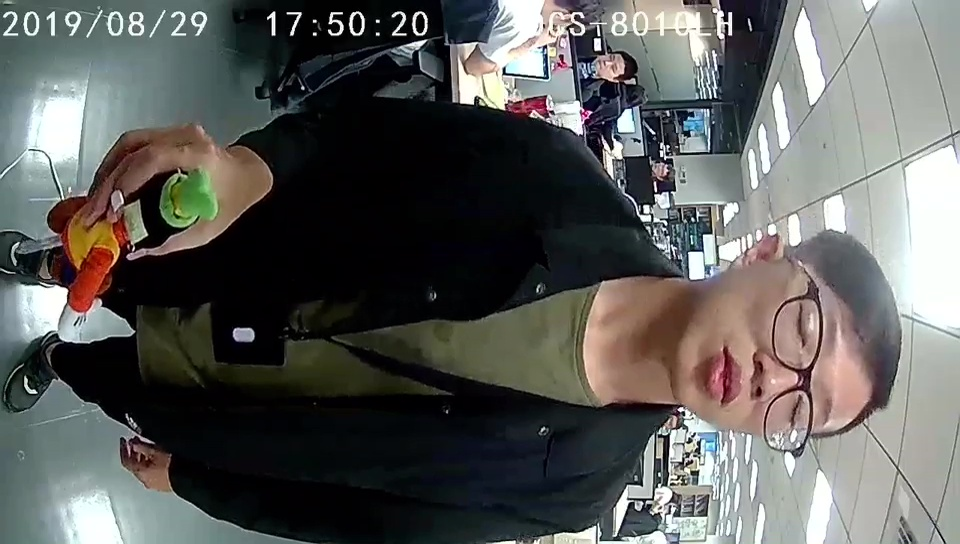goofy: (46, 168, 219, 344)
